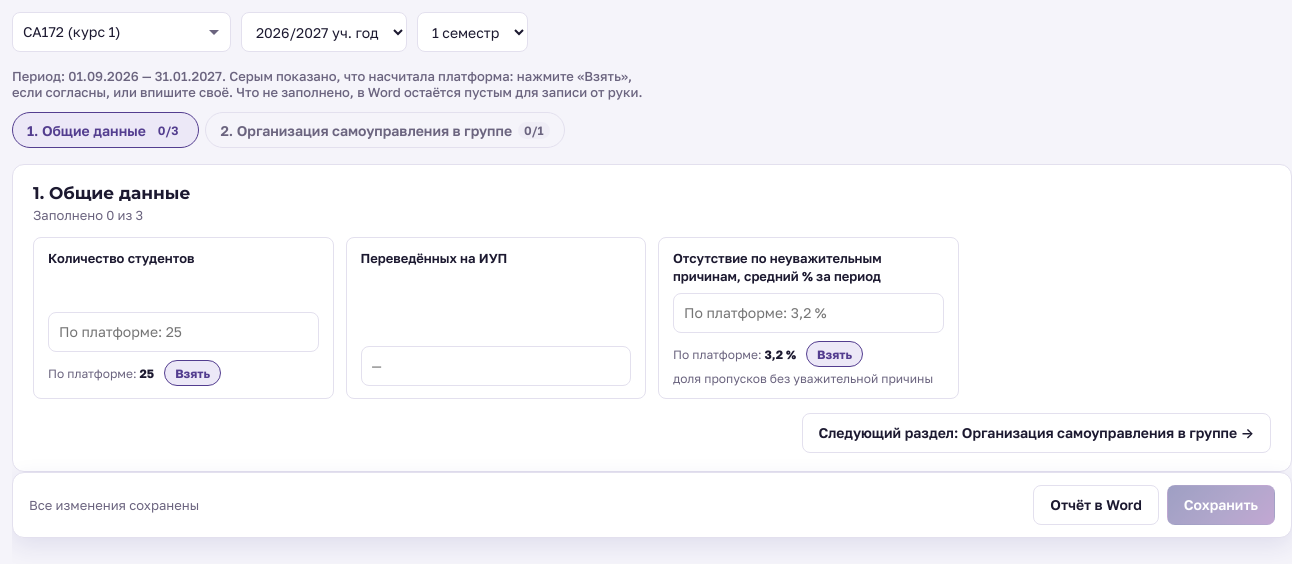
ReportPage — отчёт куратора › «Взять» подставляет посчитанное; ручные цифры сохраняются одним запросом (пустые не уходят)
This screenshot has width=1292, height=564.
Expected: the heading "1. Общие данные" is shown, [33,183,190,203]
Click the button with aria-label "Взять посчитанное: Количество студентов" at (193, 373), box [164,360,221,386]
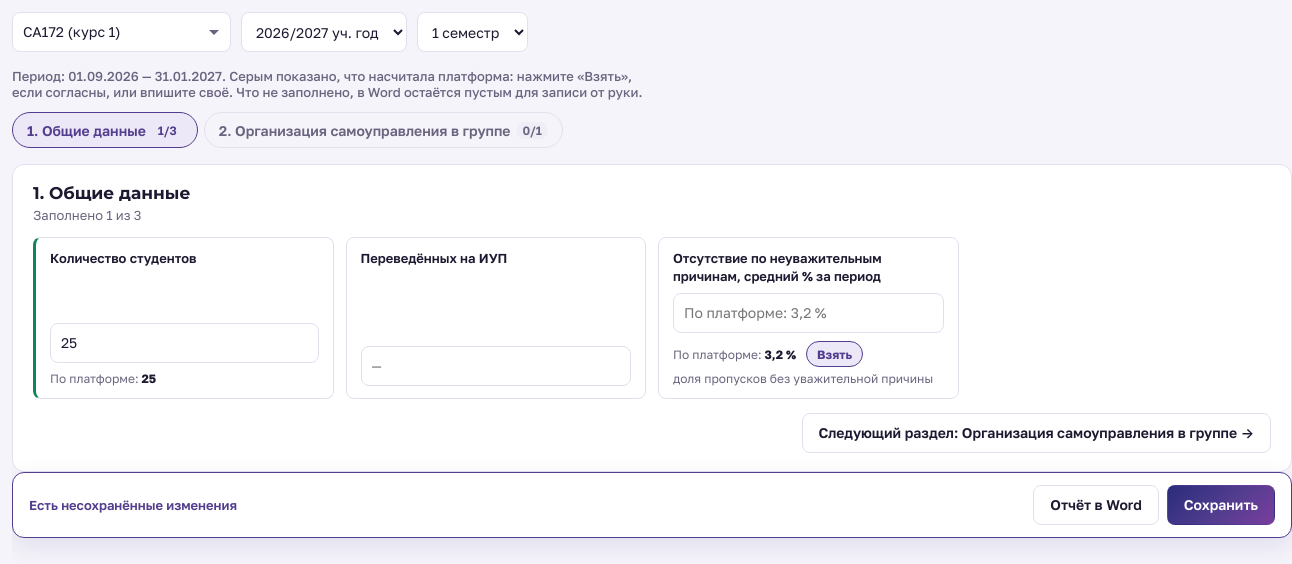
Result: the field labelled "Количество студентов" holds "25" at [50,323,318,363]
Type "2" into the field labelled "Переведённых на ИУП" at (496, 366), box [360,346,631,386]
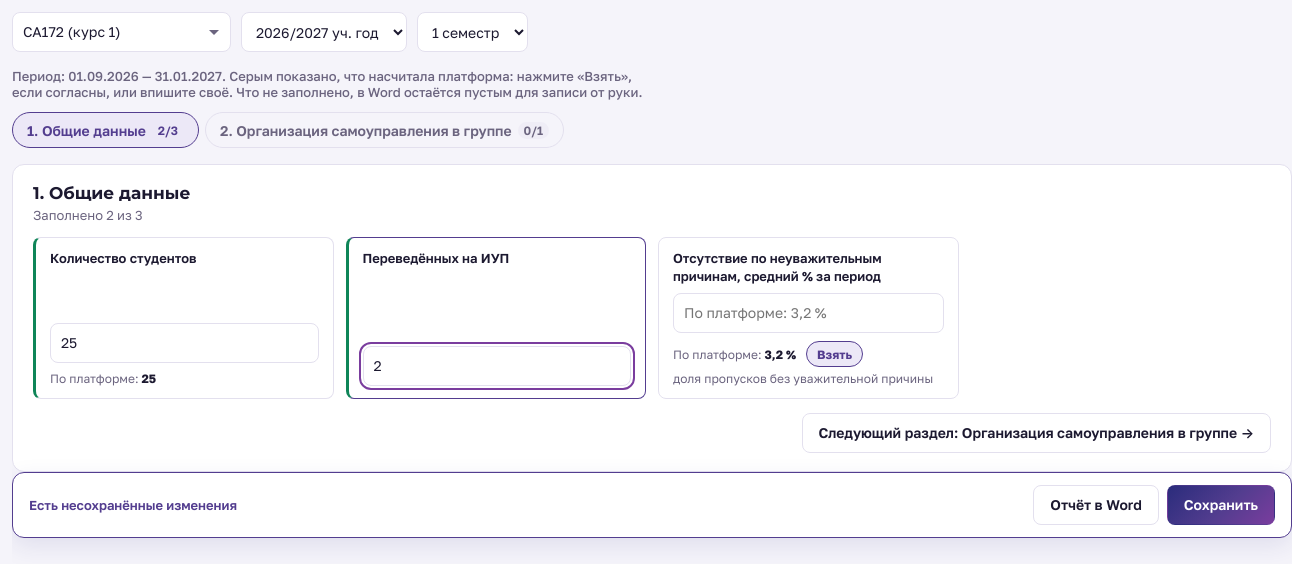
# Разделы бланка — подвкладки: несохранённое в одном разделе не теряется при переходе в другой.
Click the tab "2. Организация самоуправления в группе 0/1" at (384, 130), box [205,112,564,148]
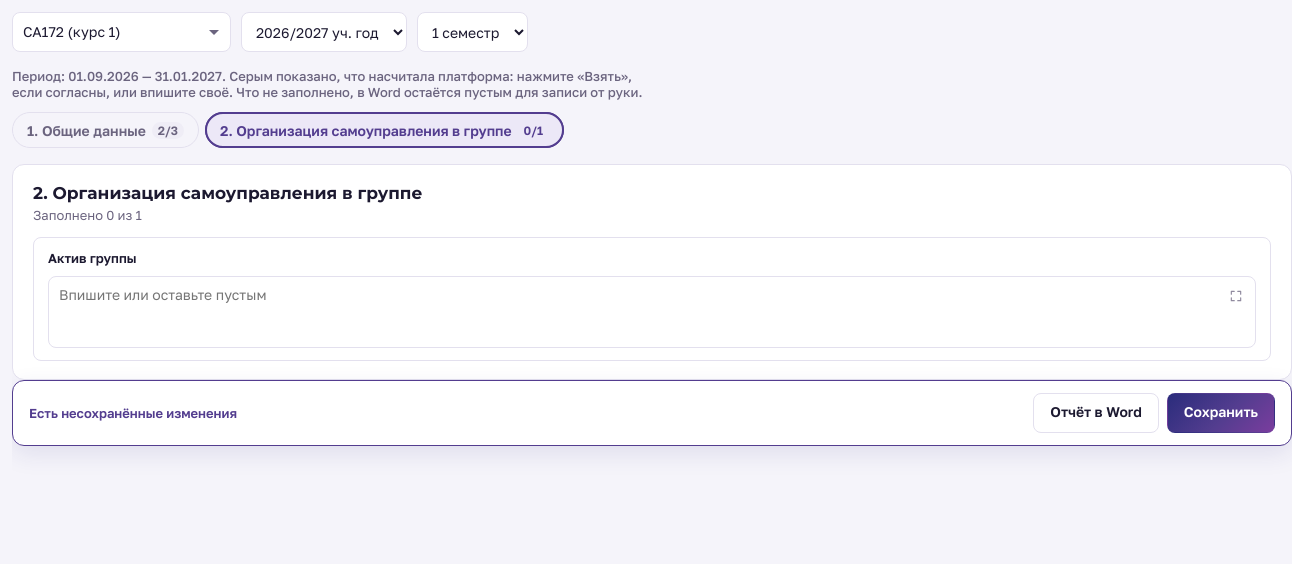
Type "Иванов И." into the text box labelled "Актив группы" at (652, 312), box [48,276,1256,348]
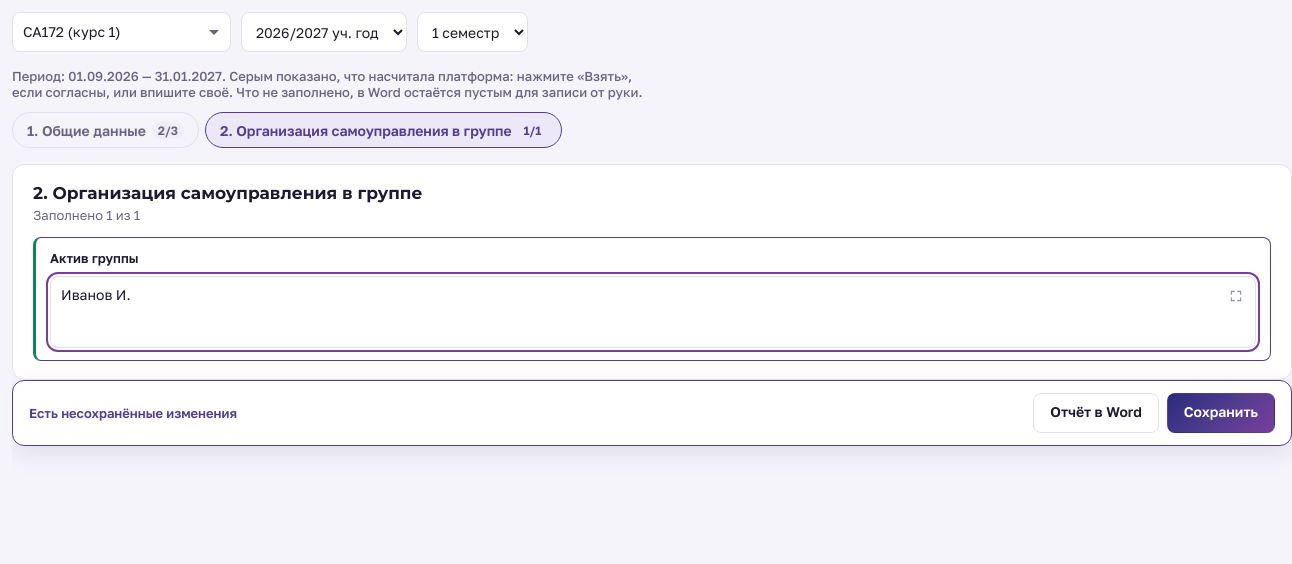
Click the button "Сохранить" at (1221, 412), box [1167,392,1275,432]
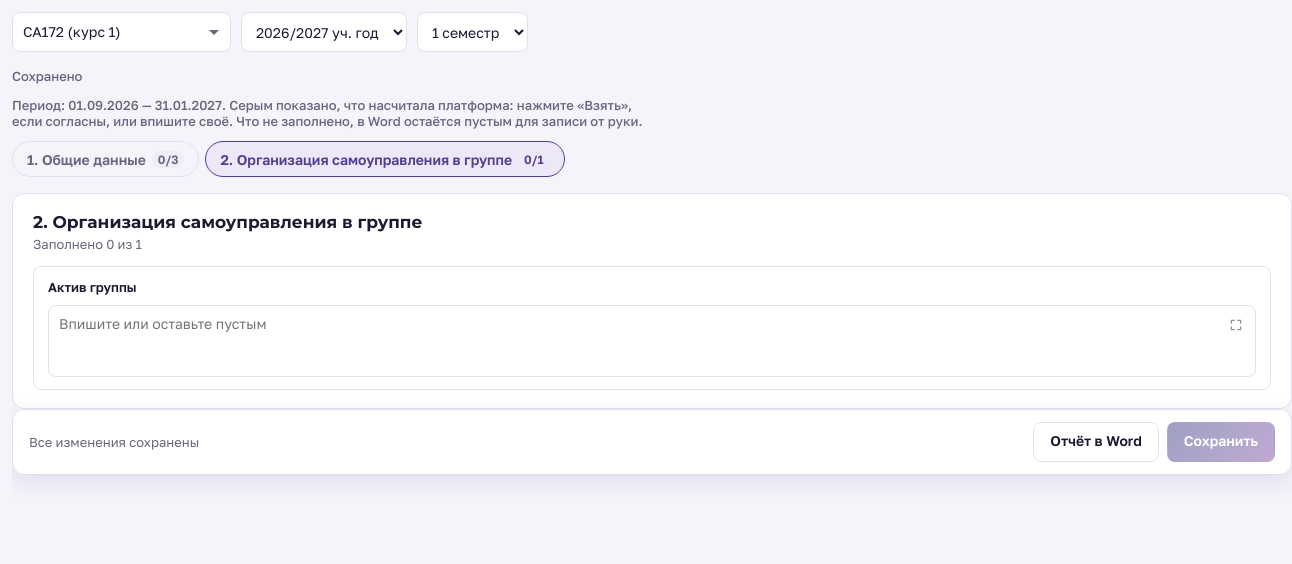
Result: the text "Сохранено" is shown at [12,68,82,84]
